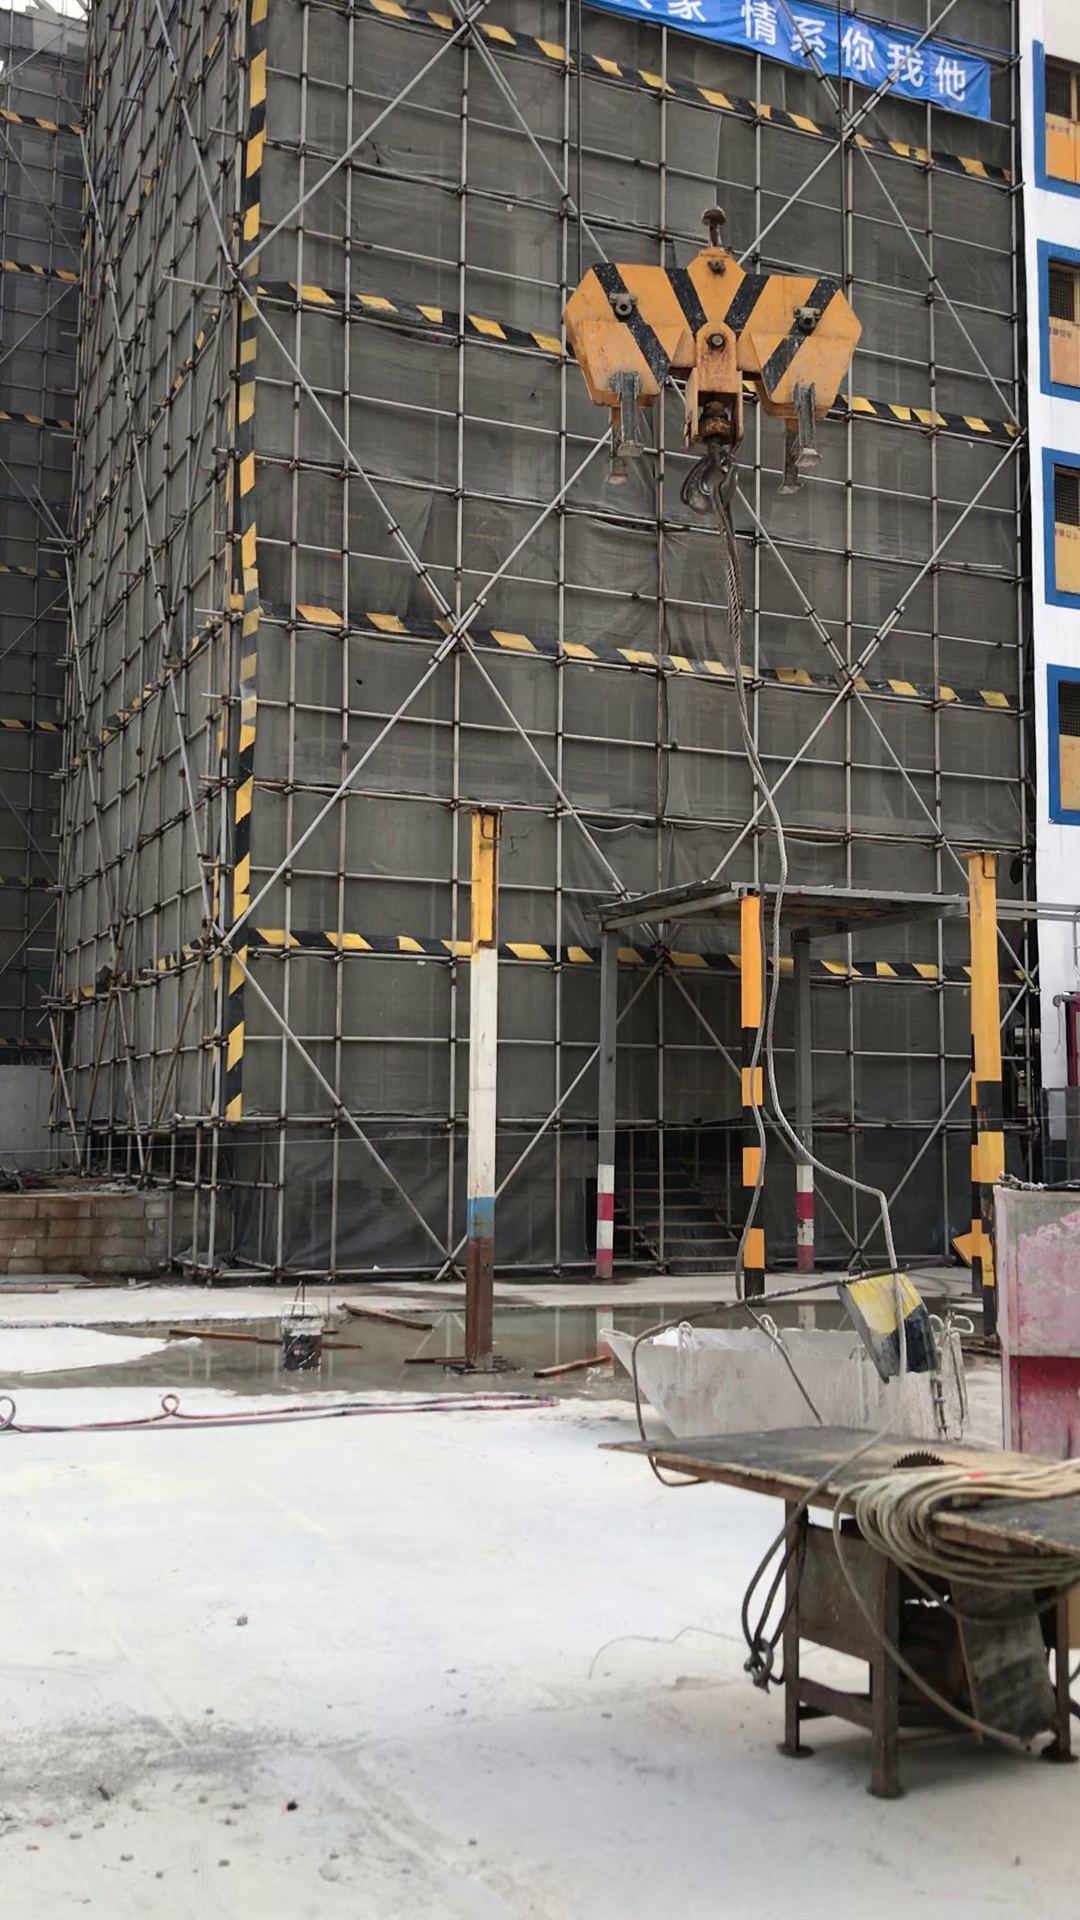cutter: (634, 1371, 1080, 1804)
hook: (554, 204, 873, 535)
hopper: (593, 1300, 945, 1448)
slogan: (622, 1, 1007, 127)
